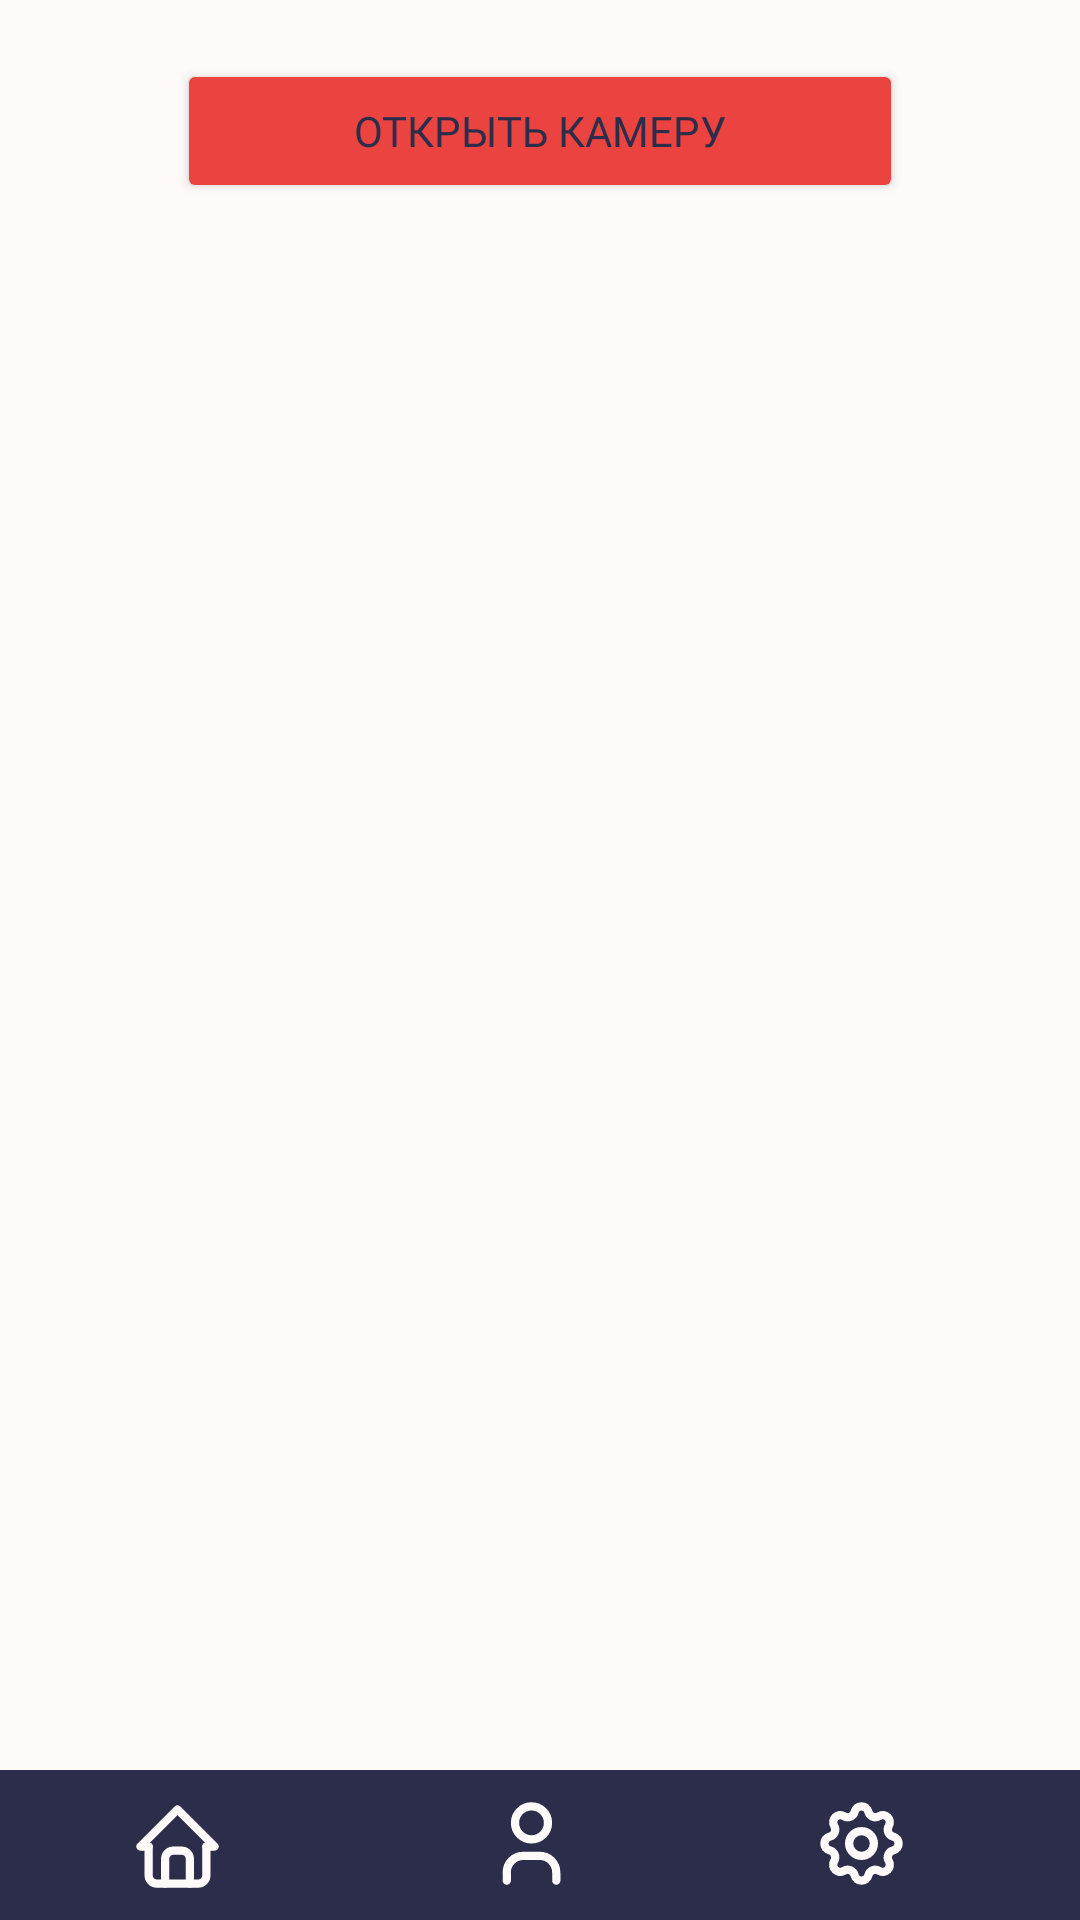

Locate icon controls on the screen. Image size 1080w x 1920h, boxes as {"left": x1, "top": y1, "right": x2, "bottom": y2}.
home: {"left": 136, "top": 1805, "right": 219, "bottom": 1888}
settings: {"left": 820, "top": 1802, "right": 903, "bottom": 1885}
user: {"left": 502, "top": 1802, "right": 561, "bottom": 1885}
